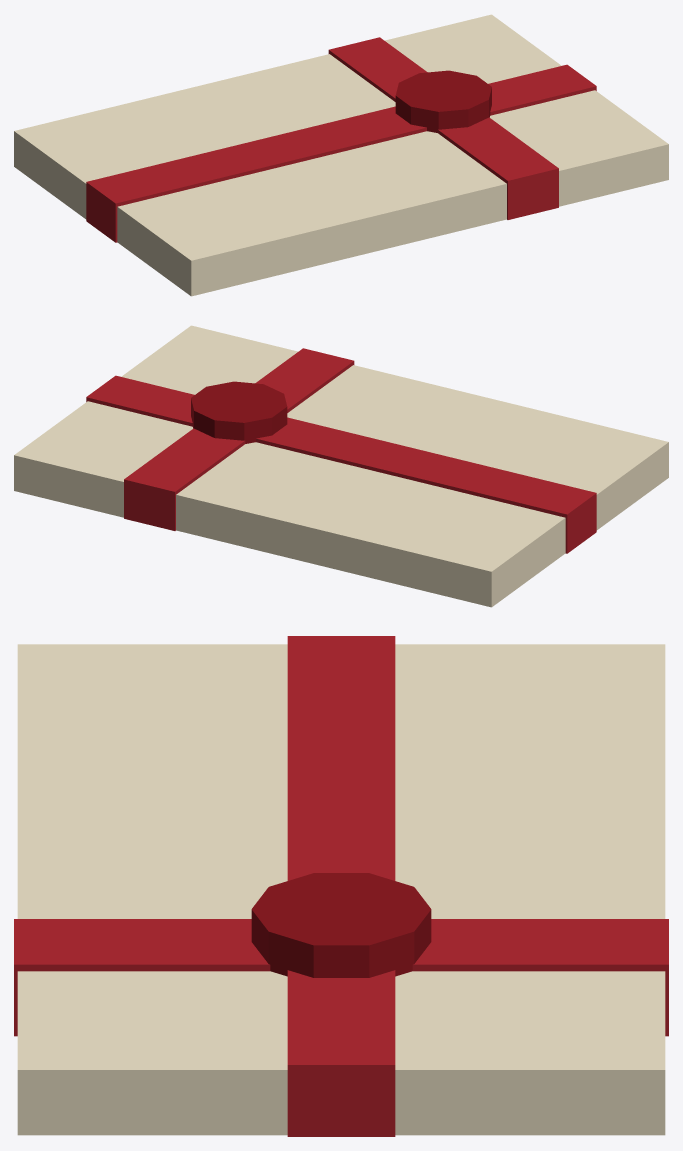
File: mansion_will.glb
3 renders of one model, top to bottom at view 1: azimuth 30°, elevation 25°; view 2: azimuth 150°, elevation 25°; view 3: azimuth 270°, elevation 25°, orthographic. The views are drawn at different scales.
Visible parts, largest first — view 1: envelope_envelope, ribbon_ribbon_red (×2), seal_wax_red; view 2: envelope_envelope, ribbon_ribbon_red (×2), seal_wax_red; view 3: envelope_envelope, ribbon_ribbon_red (×2), seal_wax_red.
Part boxes in pixels (box(x1,y1,x2,y2)): envelope_envelope: box(14, 14, 668, 296); ribbon_ribbon_red (×2): box(86, 37, 596, 242); seal_wax_red: box(395, 70, 491, 132); envelope_envelope: box(14, 325, 668, 607); ribbon_ribbon_red (×2): box(86, 348, 596, 553); seal_wax_red: box(191, 381, 287, 443); envelope_envelope: box(17, 644, 665, 1135); ribbon_ribbon_red (×2): box(14, 636, 668, 1136); seal_wax_red: box(251, 873, 431, 977).
Size of the model in its own units: 0.282 by 0.032 by 0.182.
